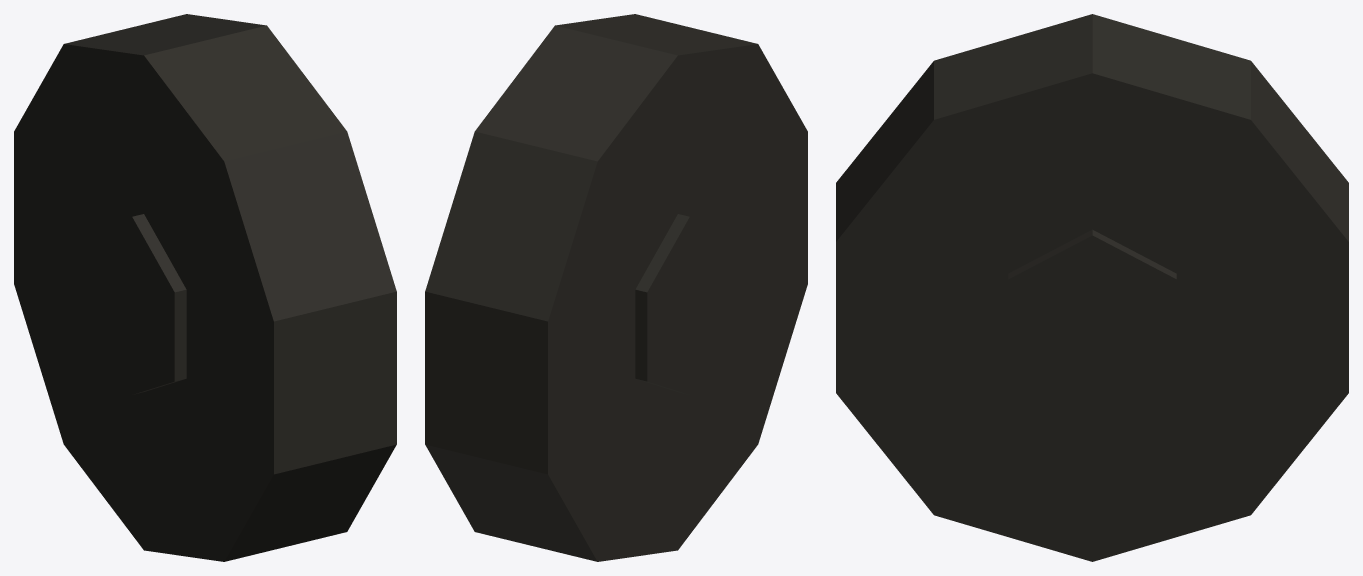
The model's file is SM_Clutter_WheelieBin_Wheel_01.fbx.
The picture shows the model from 3 angles, left to right: view 1: azimuth 30°, elevation 25°; view 2: azimuth 150°, elevation 25°; view 3: azimuth 270°, elevation 25°; orthographic projection.
Parts seen in each view (by area): view 1: SM_Clutter_WheelieBin_Wheel_01; view 2: SM_Clutter_WheelieBin_Wheel_01; view 3: SM_Clutter_WheelieBin_Wheel_01.
Boxes of the visible parts, bbox=[...] form: SM_Clutter_WheelieBin_Wheel_01: bbox=[14, 14, 396, 561]; SM_Clutter_WheelieBin_Wheel_01: bbox=[425, 14, 807, 561]; SM_Clutter_WheelieBin_Wheel_01: bbox=[836, 14, 1348, 561].
Bounding box in the file's own units: 0.062 × 0.2 × 0.1902.
Materials: 1 (1 with a texture image).
